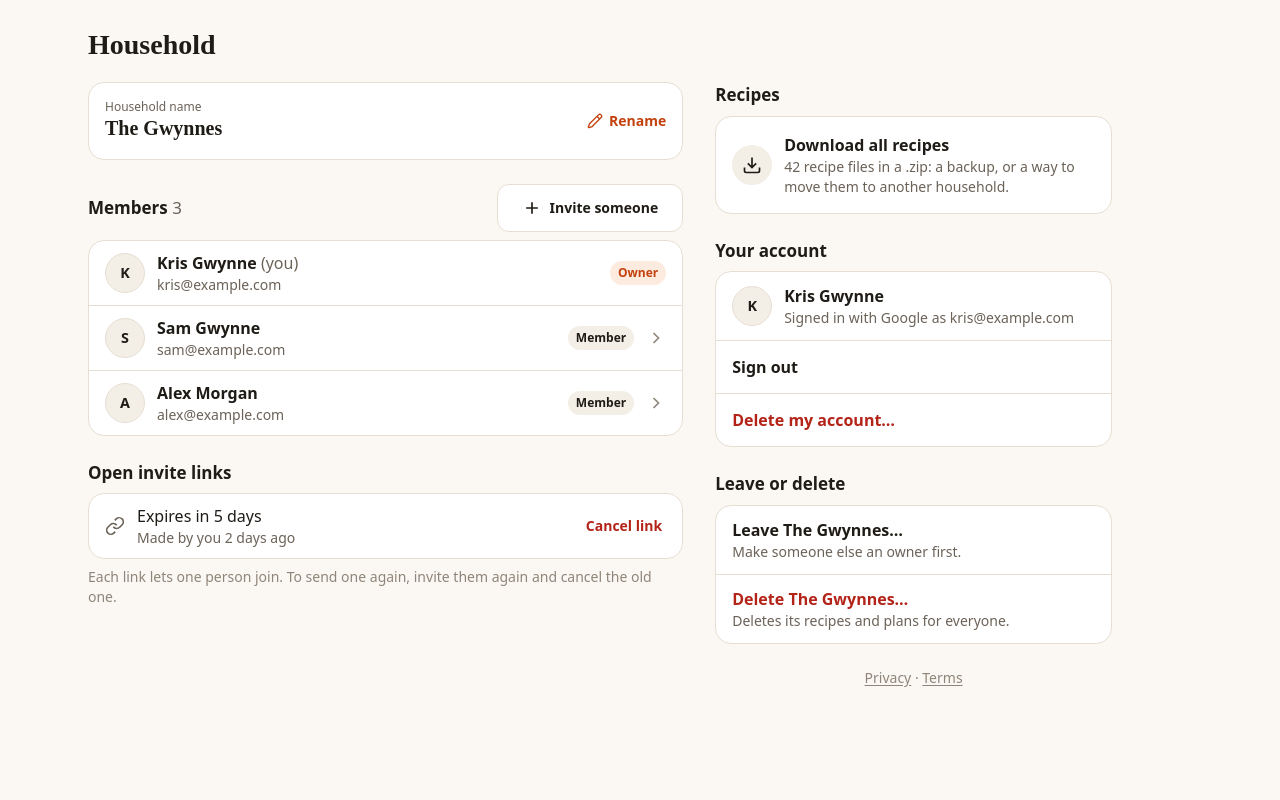
Test: as an owner (design A, B) › cancels a link
The width and height of the screenshot is (1280, 800).
What coordinates should you click on to do the following:
click the button "Cancel link"
I would click on:
 (624, 526)
Its box is [574,504,674,548].
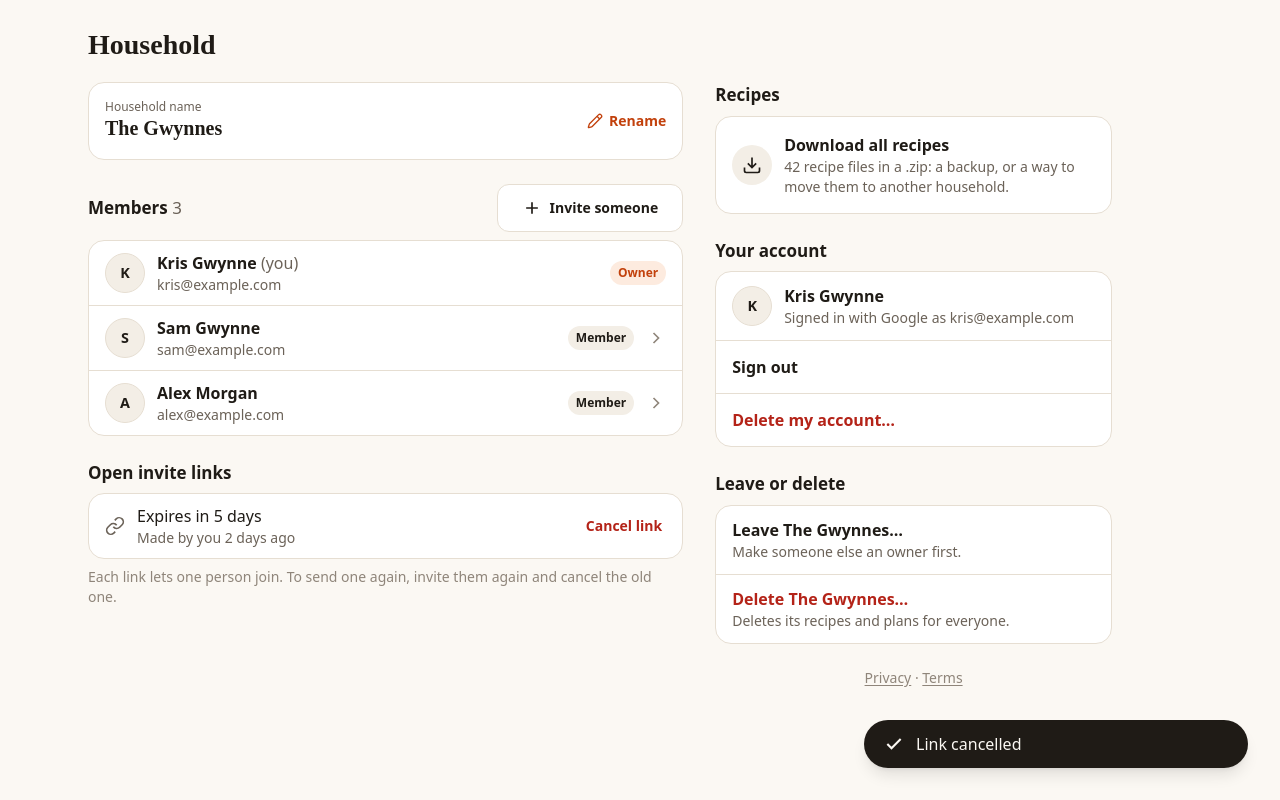
Now the message reads "Link cancelled", box [916,733,1022,755]
